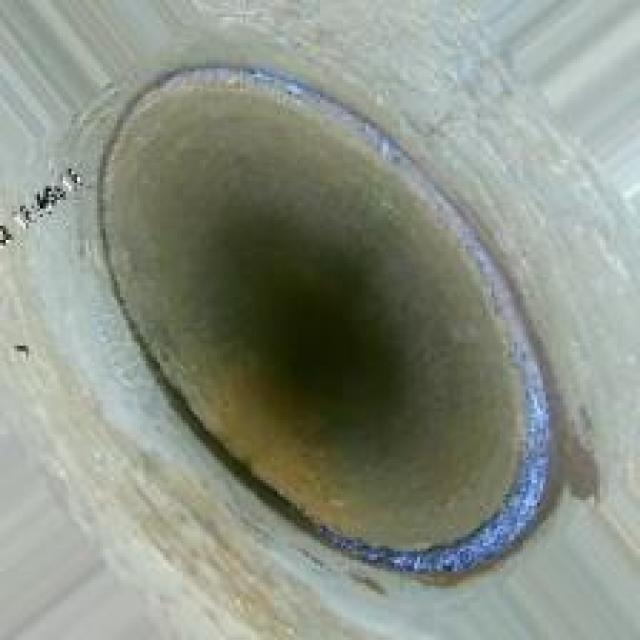joint: (94, 49, 557, 577)
